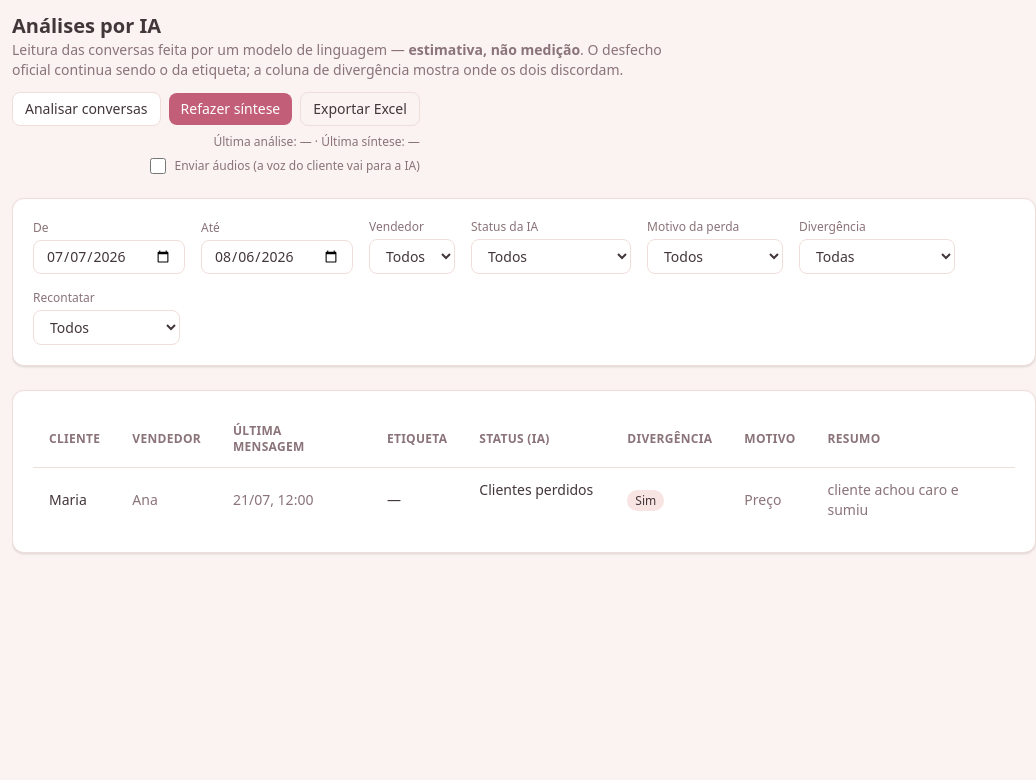
Test case: AiAnalysisPage › abre o detalhe da linha
Click the text "Maria".
click(75, 500)  # box [33, 468, 116, 532]
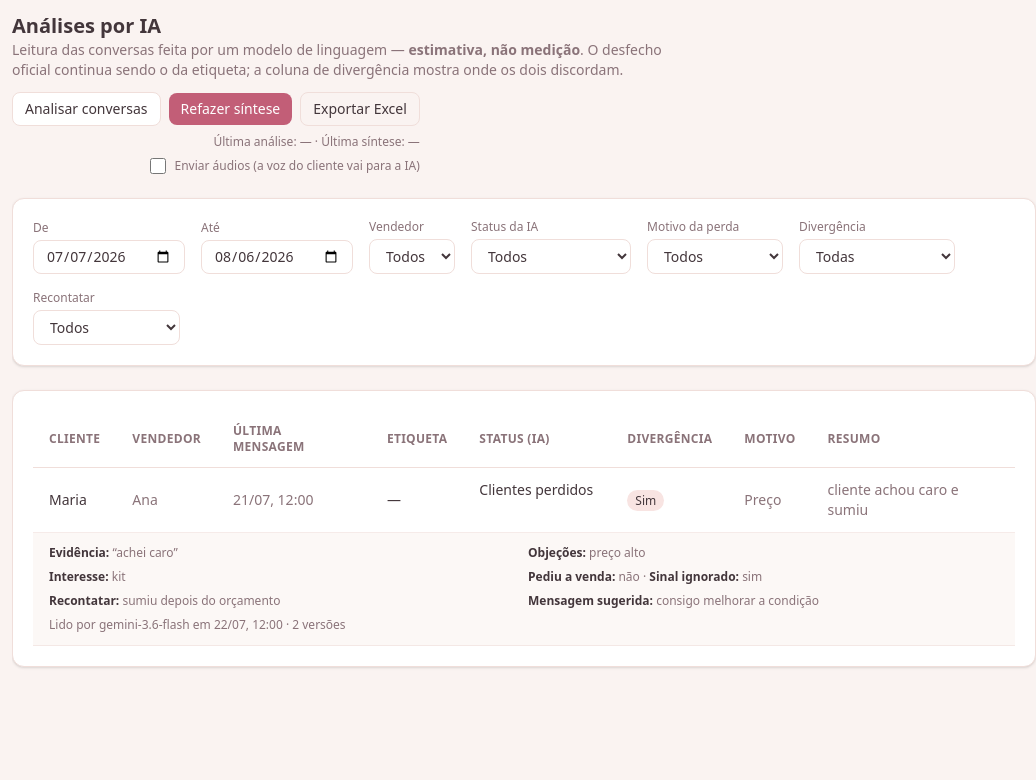
Now the text "Evidência: “achei caro”" is shown, box [49, 544, 178, 561]
Now the text "Mensagem sugerida: consigo melhorar a condição" is shown, box [528, 592, 819, 609]
Now the text "Lido por gemini-3.6-flash em 22/07, 12:00 · 2 versões" is shown, box [49, 616, 346, 633]
